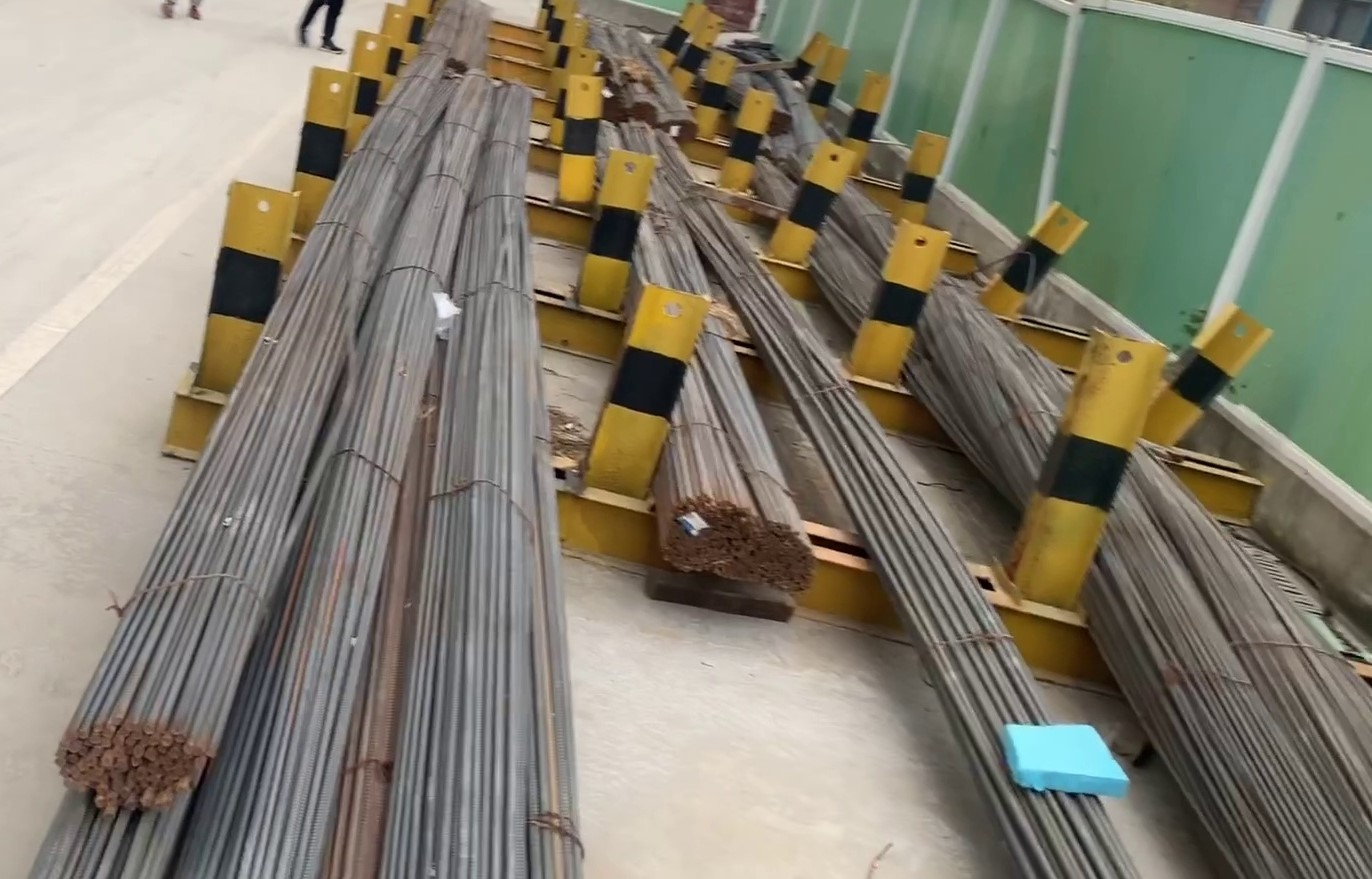rebar: (46, 709, 225, 811), (658, 486, 823, 587)
